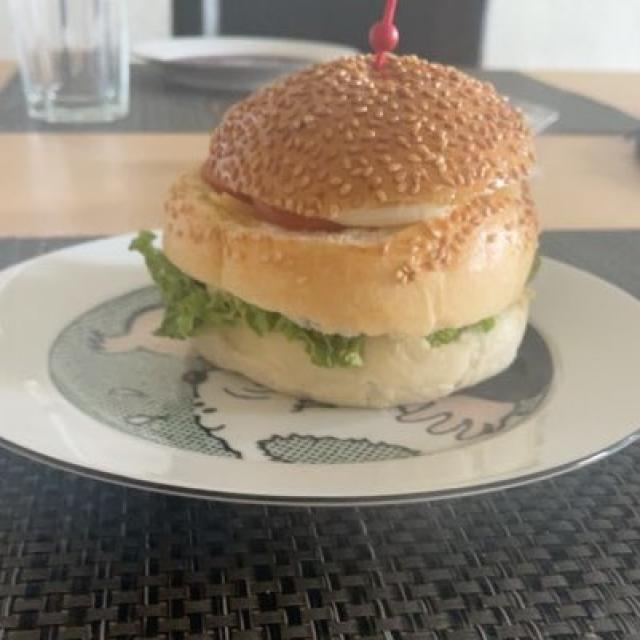hamburger-bun: (146, 46, 539, 406)
salad-leaf-salad-green: (133, 238, 463, 370)
tomato-raw: (221, 185, 341, 232)
